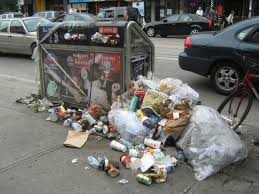garbage: (112, 77, 198, 180), (183, 124, 246, 175), (70, 110, 119, 142), (37, 100, 78, 119)
